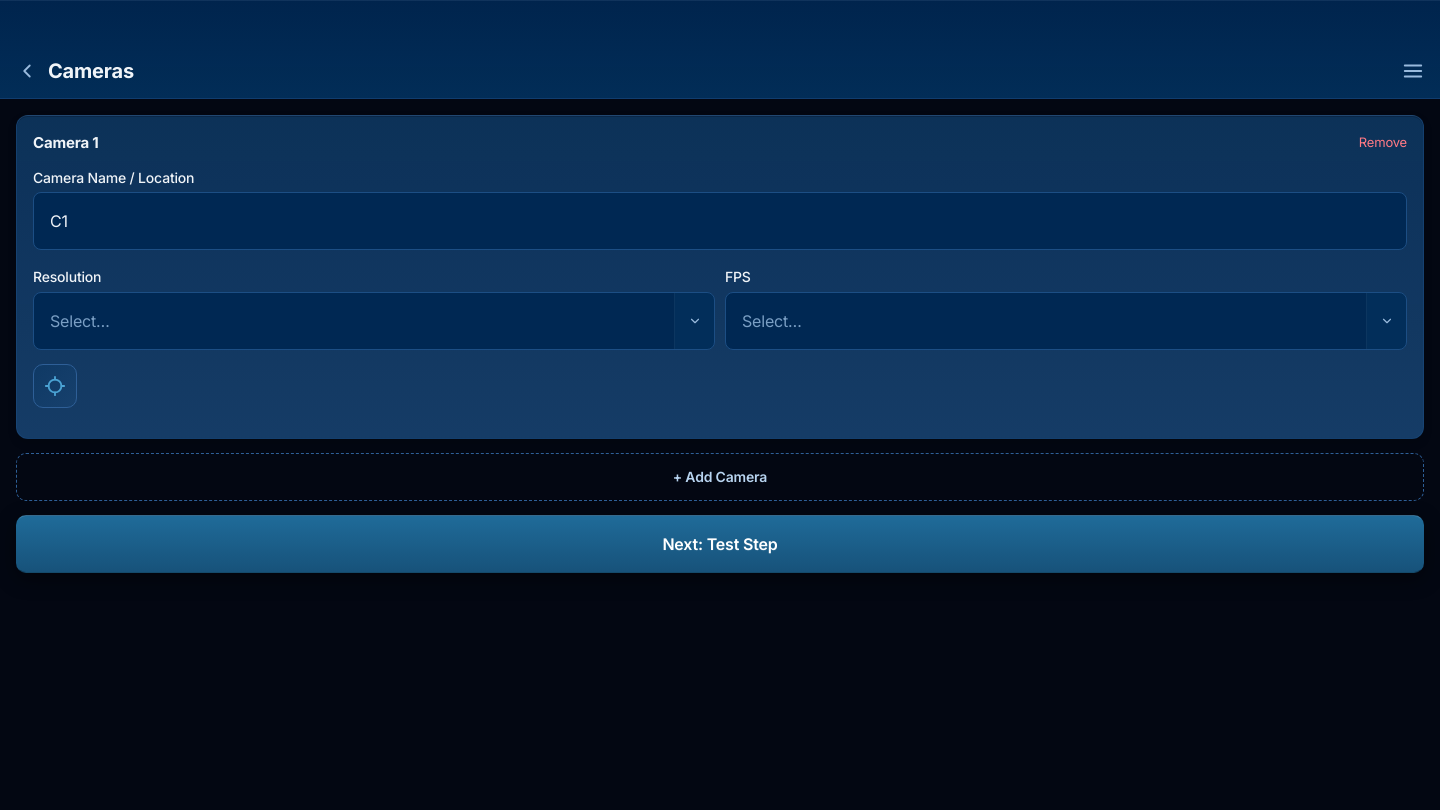
Test: Cameras — honest failure paths › says plainly that nothing was captured when the browser has no location service
Click the button named "Capture camera GPS location".
click(55, 386)  # box [33,364,77,408]
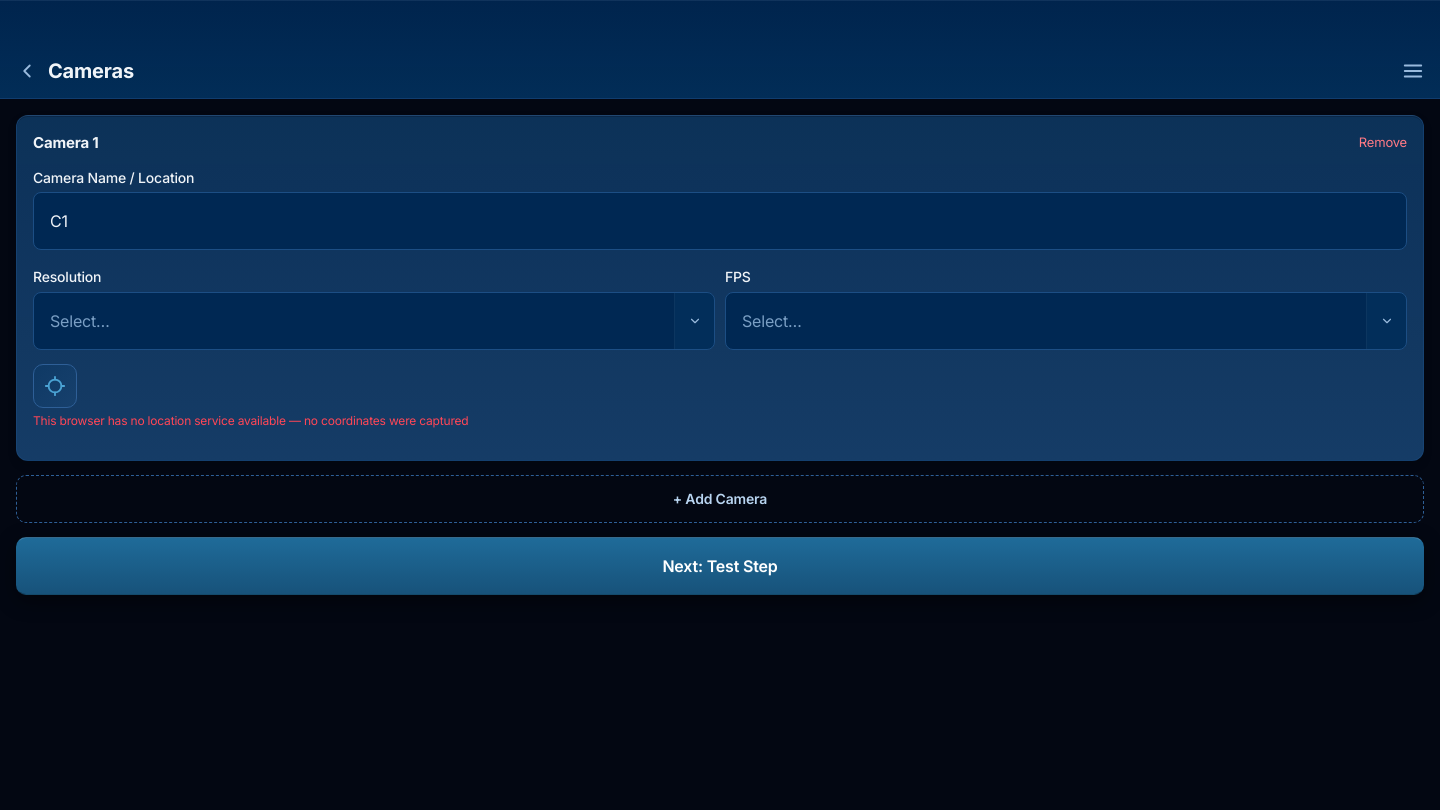
expect the message with test id "camera-gps-c1-error" reads "This browser has no location service available — no coordinates were captured": met, box [33,413,468,428]
